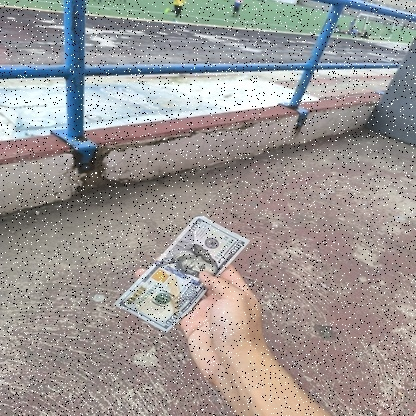one_hundred-front: (111, 216, 256, 339)
